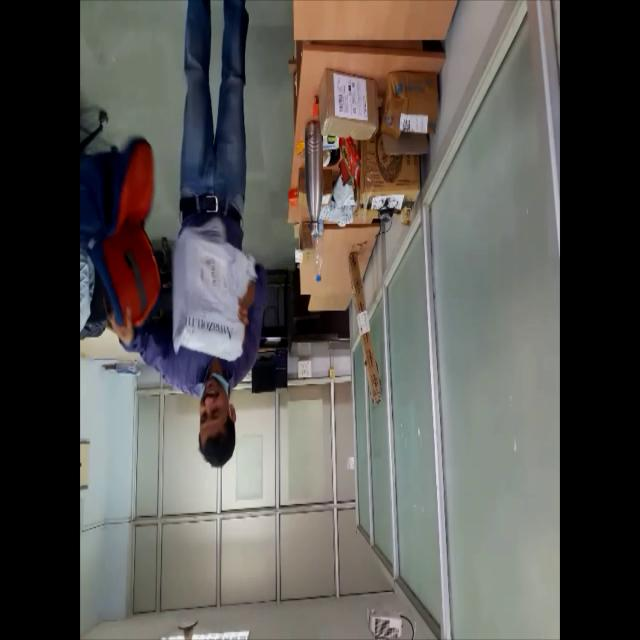shoplifting: (92, 0, 272, 481)
